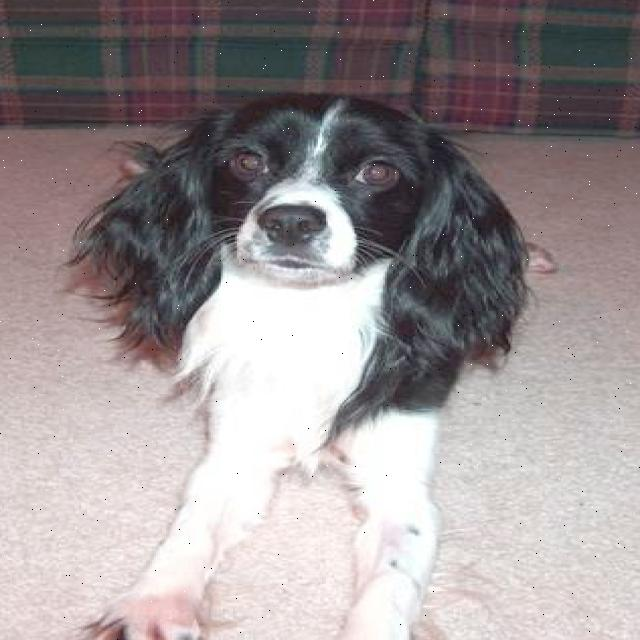Dog: (78, 81, 528, 389)
